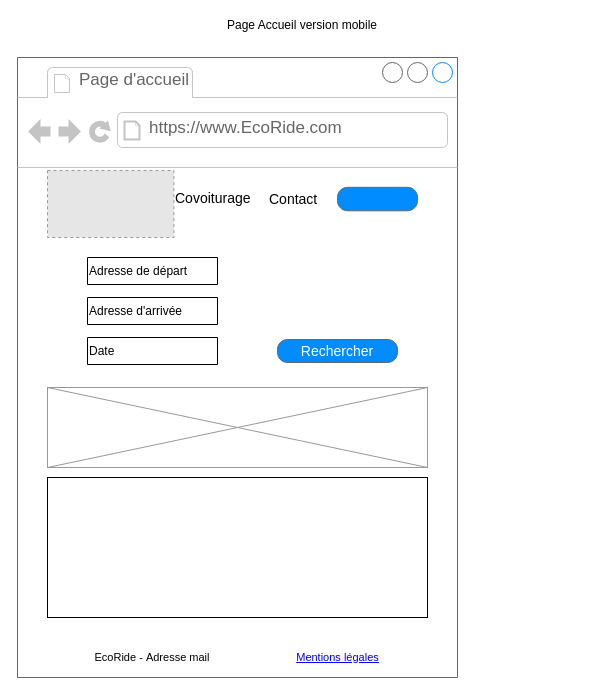
Some shapes in this 605 by 695 pixel diagram are drawn without their labels. Grey dashed boxes stand in for pictures. Each missing label, with the centre of its shape:
"Connexion" belongs at point 377,198.
"Image présentation" belongs at point 237,427.
"Présentation entreprise EcoRide" belongs at point 237,547.
